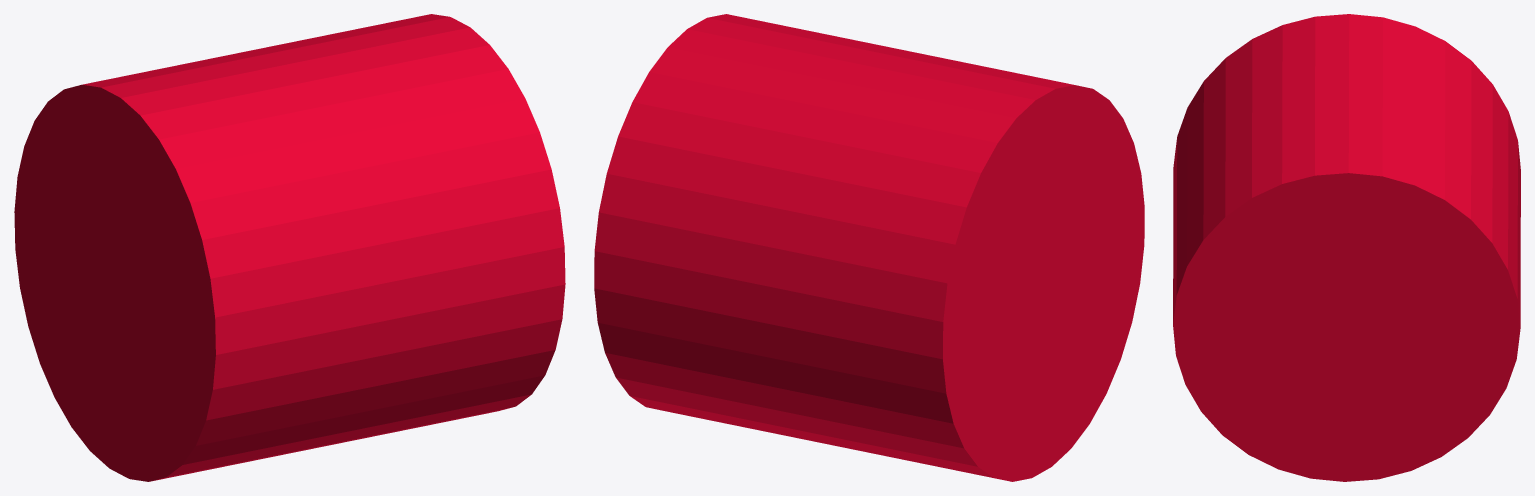
The model's file is wire.glb.
3 views of the same model, side by side, from view 1: azimuth 30°, elevation 25°; view 2: azimuth 150°, elevation 25°; view 3: azimuth 270°, elevation 25° (orthographic). The views are drawn at different scales.
Parts seen in each view (by area): view 1: Cylinder; view 2: Cylinder; view 3: Cylinder.
Boxes of the visible parts, bbox=[...] form: Cylinder: bbox=[14, 14, 565, 481]; Cylinder: bbox=[594, 14, 1144, 481]; Cylinder: bbox=[1173, 14, 1520, 481].
Bounding box in the file's own units: 1.8 × 1.8 × 1.74.
